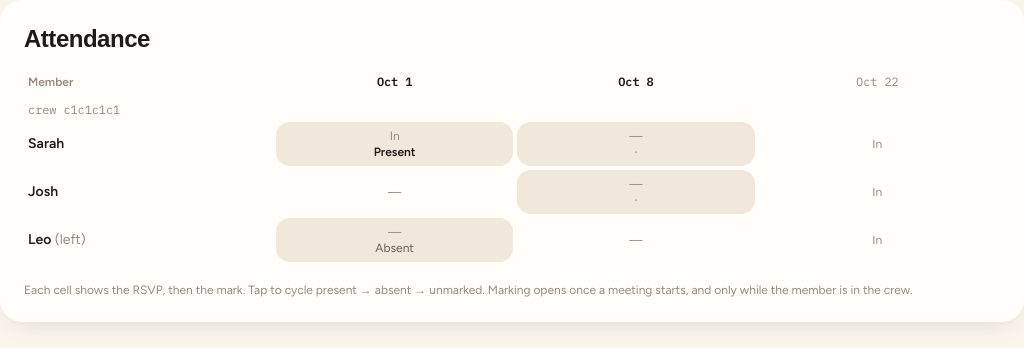
setAttendance › puts a failed save in the cell's accessible name
This screenshot has width=1024, height=348.
Step 1. Click the button named "Josh, Oct 8: " → (636, 192), box [517,170,755,214]
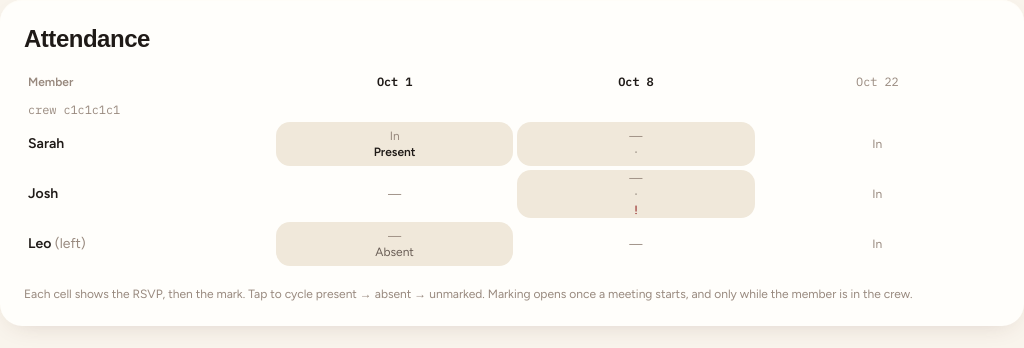
Check: the button named "Josh, Oct 8: Unmarked, RSVP —. Couldn't save, tap to retry." is shown, box [517,170,755,218]
